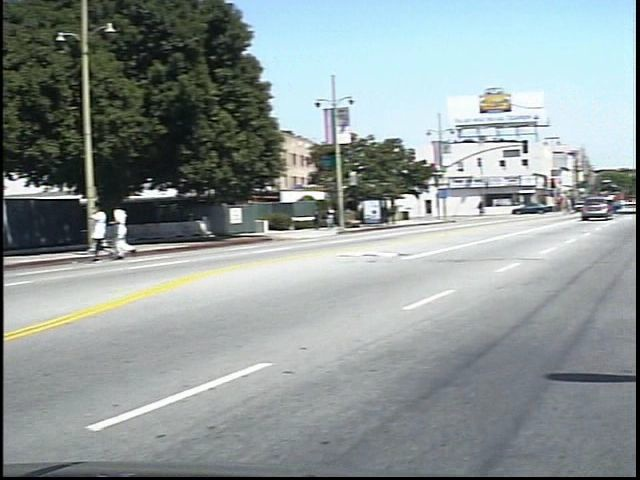person: (101, 199, 127, 262), (124, 201, 150, 262), (334, 204, 350, 232), (322, 207, 336, 232), (488, 197, 501, 220)
